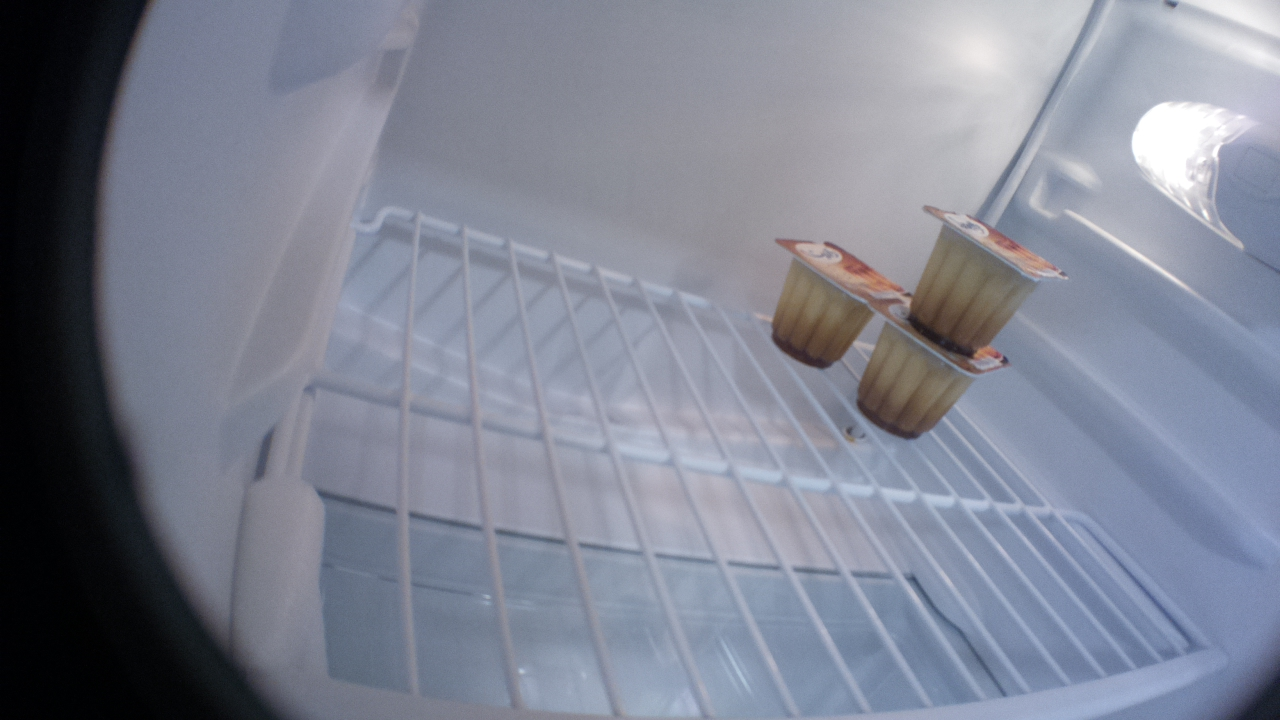caramel: (908, 202, 1072, 352), (856, 296, 1013, 439), (771, 233, 884, 369)
